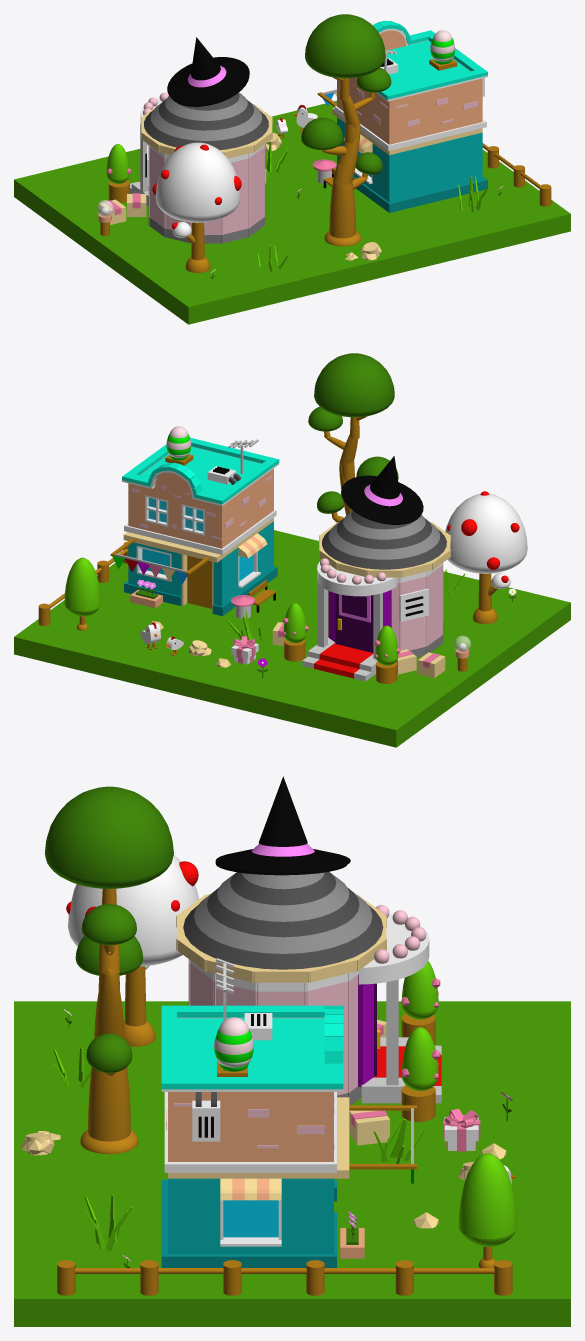
File: magichouse.glb
The picture shows the model from 3 angles, top to bottom: view 1: azimuth 30°, elevation 25°; view 2: azimuth 150°, elevation 25°; view 3: azimuth 270°, elevation 25°; orthographic projection. The views are drawn at different scales.
Parts seen in each view (by area): view 1: box (×12), hemisphere (×10), cone (×5), halfCylinder, cylinder; view 2: box (×23), hemisphere (×6), cone (×5), halfCylinder (×2); view 3: box (×25), hemisphere (×13), cone (×6), cylinder (×2), halfCylinder.
Part boxes in pixels (bbox=[...]): box (×12): bbox=[14, 40, 570, 324]; hemisphere (×10): bbox=[106, 14, 391, 260]; cone (×5): bbox=[144, 37, 268, 150]; halfCylinder: bbox=[379, 30, 406, 50]; cylinder: bbox=[108, 180, 129, 202]; box (×23): bbox=[14, 437, 570, 747]; hemisphere (×6): bbox=[64, 353, 527, 660]; cone (×5): bbox=[322, 456, 446, 569]; halfCylinder (×2): bbox=[155, 472, 396, 596]; box (×25): bbox=[14, 957, 570, 1326]; hemisphere (×13): bbox=[44, 786, 516, 1239]; cone (×6): bbox=[183, 776, 383, 969]; cylinder (×2): bbox=[75, 1085, 494, 1273]; halfCylinder: bbox=[358, 913, 429, 984].
Bounding box in the file's own units: 229 × 137 × 181.
